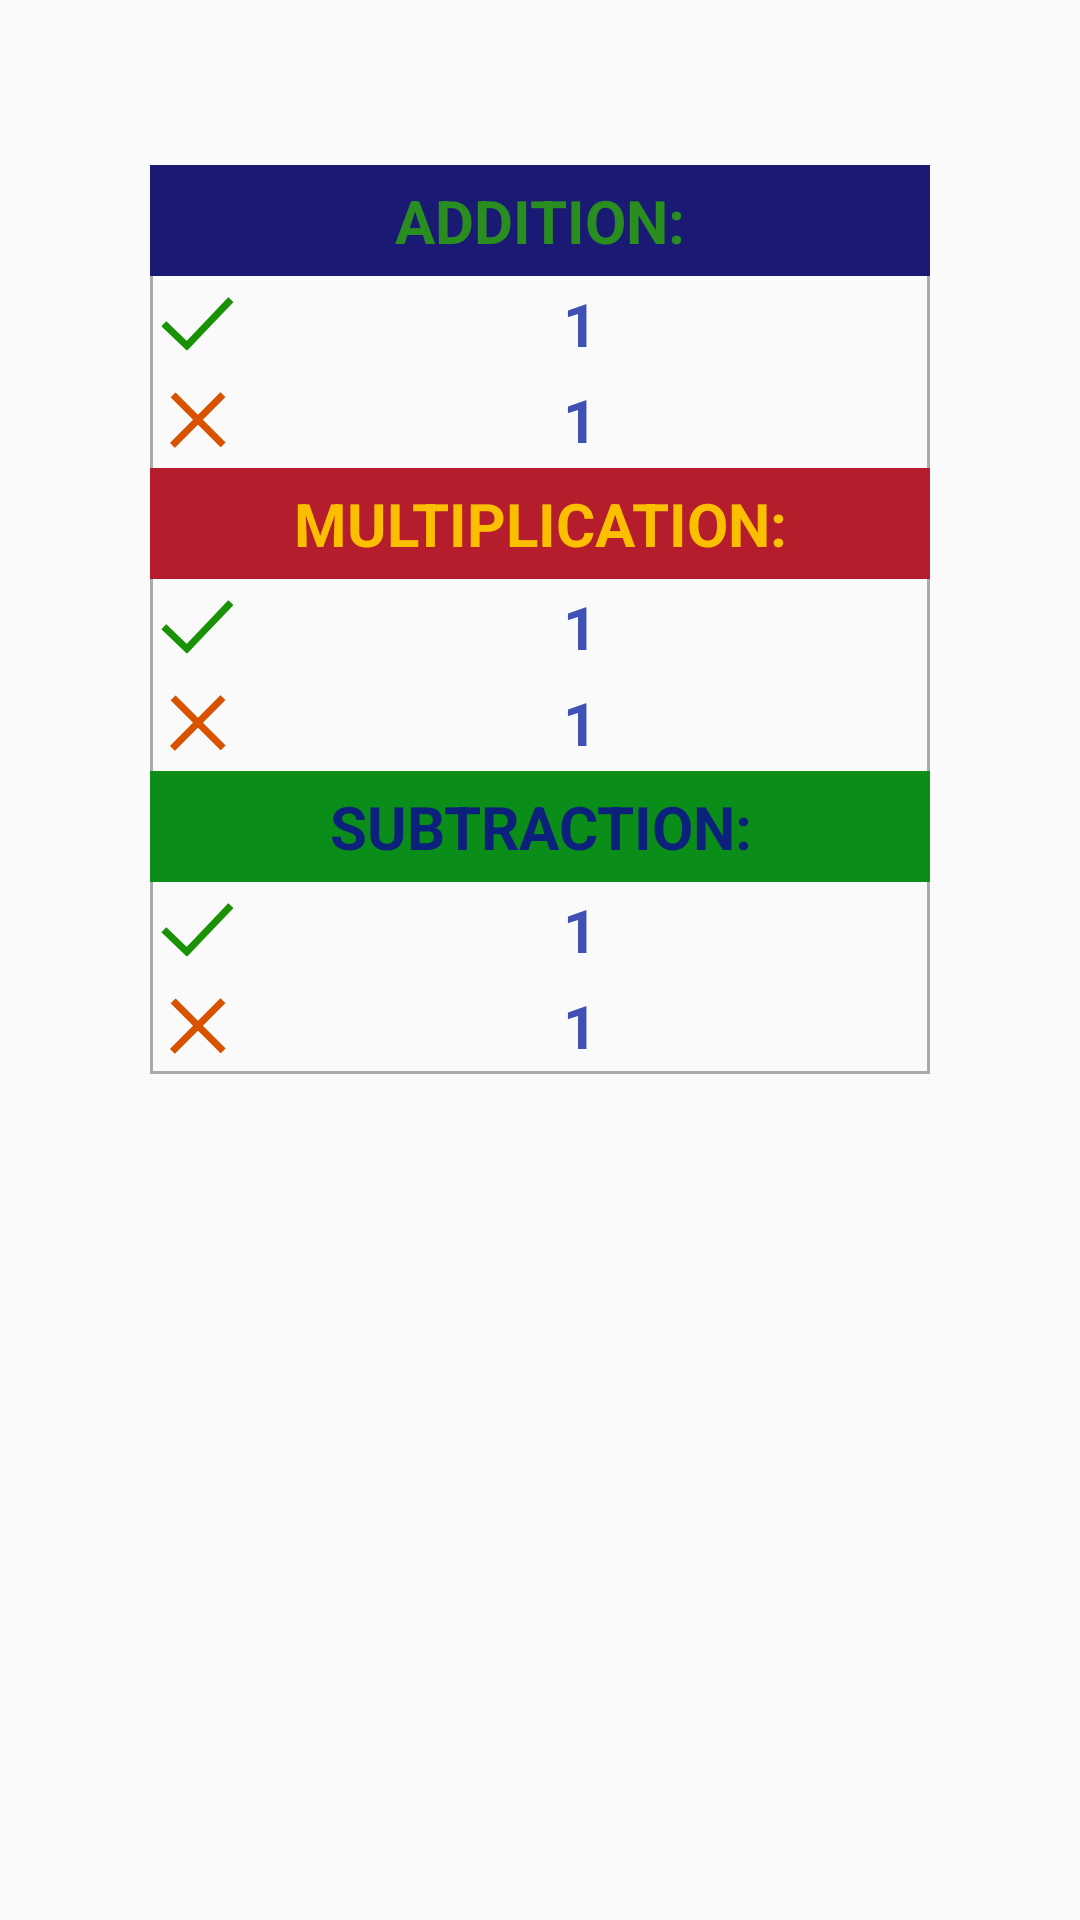

Screen size 1080*1920. Icon name, then its center in pixels as (x,y):
checkmark: (197,324), (197,627), (197,930)
wrongmark: (198,420), (198,723), (198,1026)
